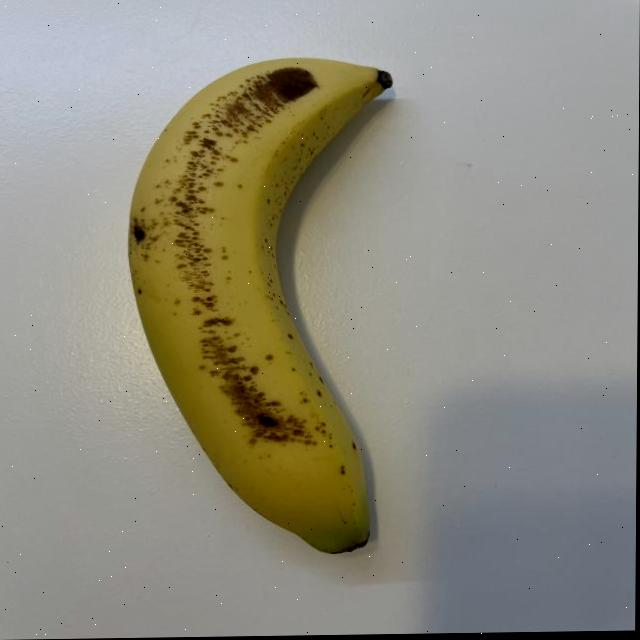banana: (129, 53, 402, 564)
